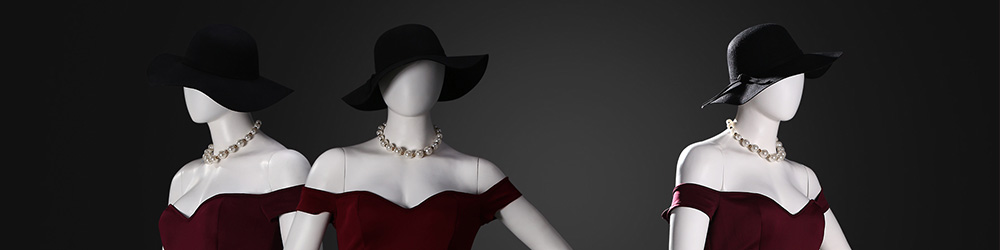person-like: (276, 22, 573, 250), (657, 18, 857, 250), (147, 36, 315, 250)
